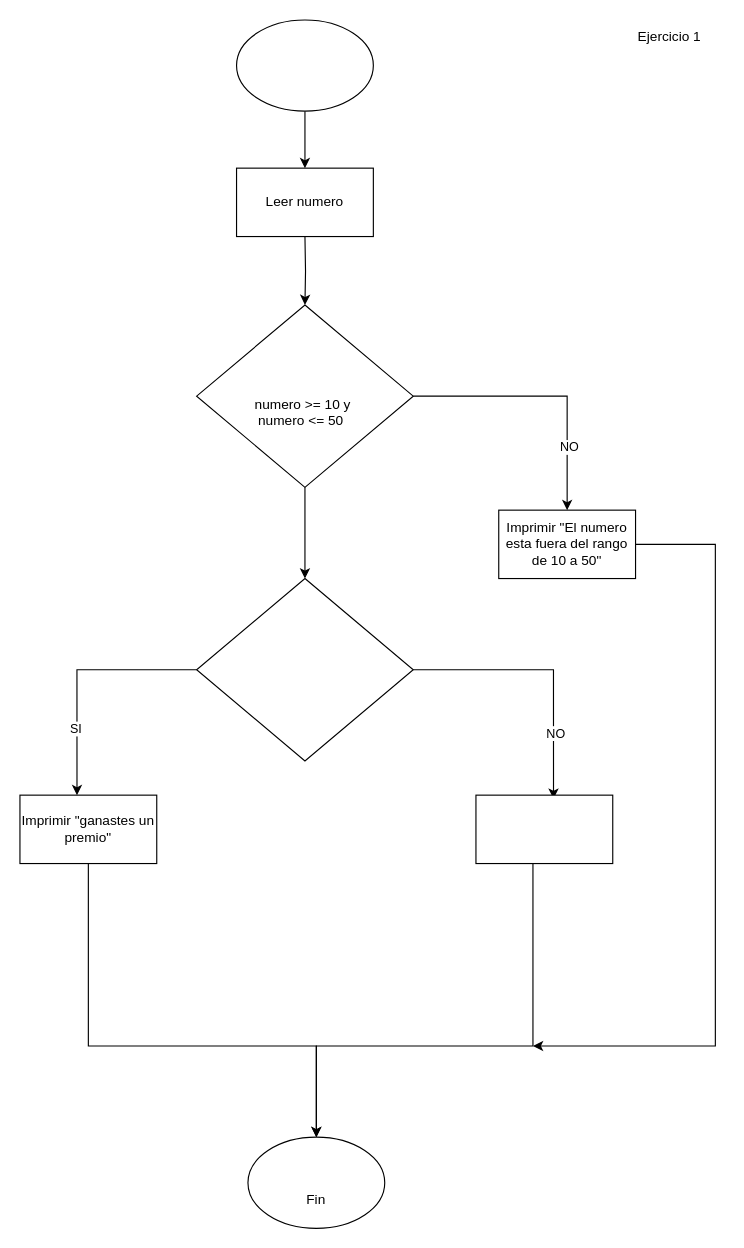
Some shapes in this 744 by 1248 pixel diagram are drawn without their labels. Here are the shapes that lost their labels. From the top down, the box of each, then its label:
(235, 19, 373, 111): Inicio
(196, 577, 413, 761): Numero ==30
(475, 794, 613, 864): Imprimir "Perdiste"
